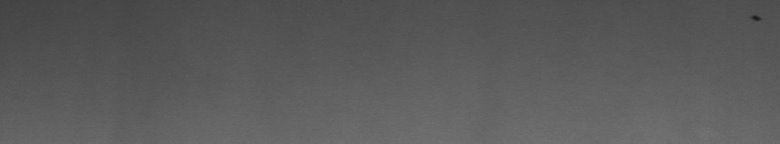fi: (749, 8, 763, 28)
